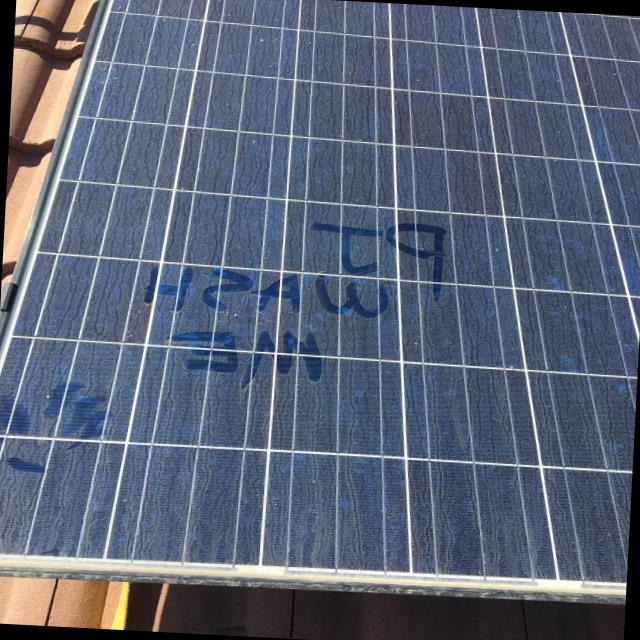faulty: (7, 0, 640, 607)
